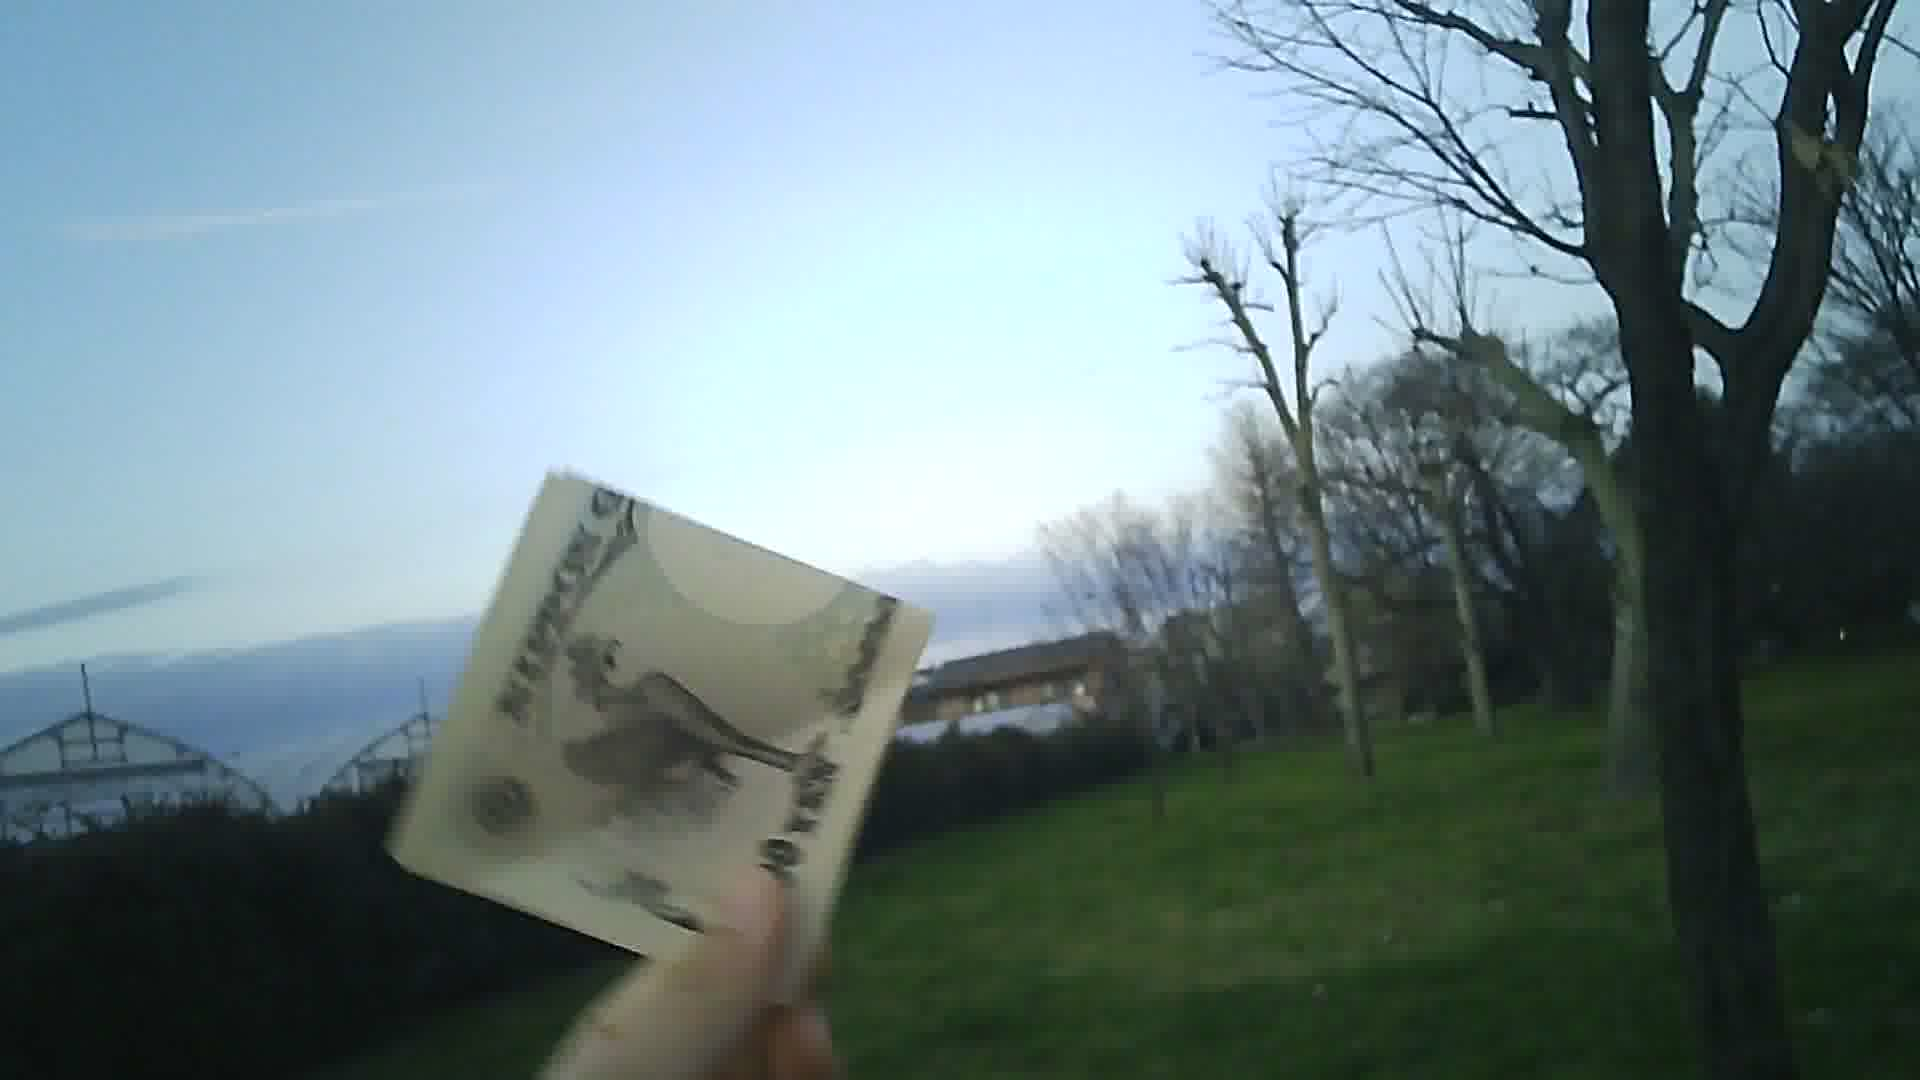10,000 Yen: (378, 459, 914, 1005)
